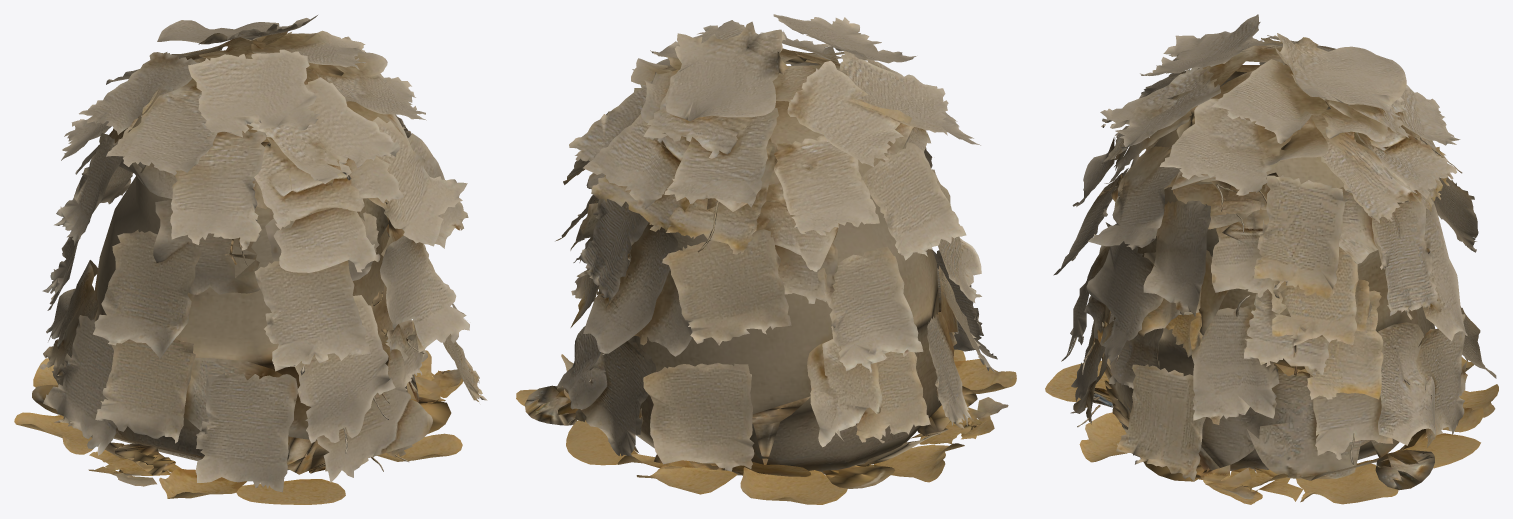
The model's file is prop-paper-wave-v01.glb.
The picture shows the model from 3 angles, left to right: view 1: azimuth 30°, elevation 25°; view 2: azimuth 150°, elevation 25°; view 3: azimuth 270°, elevation 25°; orthographic projection. The views are drawn at different scales.
Visible parts, largest first — view 1: tripo_node_c6f9e751-fbdb-47df-adfd-26e5e247d4d4; view 2: tripo_node_c6f9e751-fbdb-47df-adfd-26e5e247d4d4; view 3: tripo_node_c6f9e751-fbdb-47df-adfd-26e5e247d4d4.
Boxes of the visible parts, x1,y1,x2,y2 form: tripo_node_c6f9e751-fbdb-47df-adfd-26e5e247d4d4: (14,15,487,504); tripo_node_c6f9e751-fbdb-47df-adfd-26e5e247d4d4: (516,14,1016,504); tripo_node_c6f9e751-fbdb-47df-adfd-26e5e247d4d4: (1045,14,1498,504).
Size of the model in its own units: 0.1547 by 0.142 by 0.1547.
Materials: 1 (1 with a texture image).
